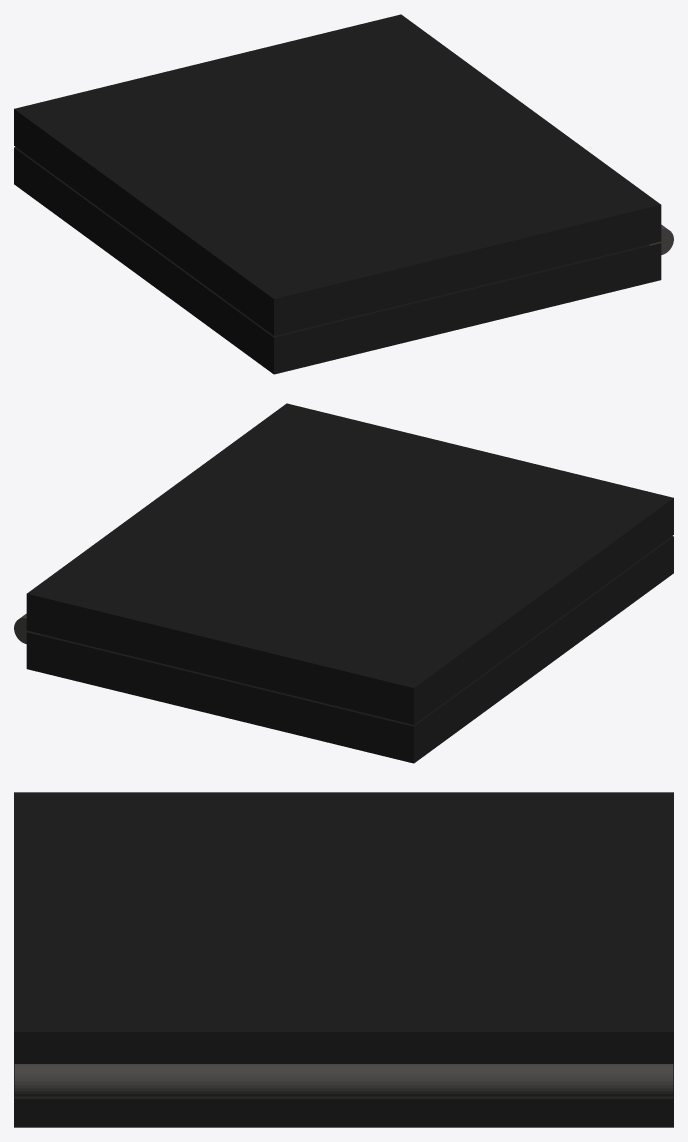
The model's file is Laptop Closed.fbx.
3 renders of one model, top to bottom at view 1: azimuth 30°, elevation 25°; view 2: azimuth 150°, elevation 25°; view 3: azimuth 270°, elevation 25°, orthographic. The views are drawn at different scales.
Parts seen in each view (by area): view 1: Laptop Closed; view 2: Laptop Closed; view 3: Laptop Closed.
Part boxes in pixels (<box>): Laptop Closed: <box>14,14,673,374</box>; Laptop Closed: <box>14,403,673,763</box>; Laptop Closed: <box>14,792,673,1127</box>.
Size of the model in its own units: 257 by 46.27 by 289.
